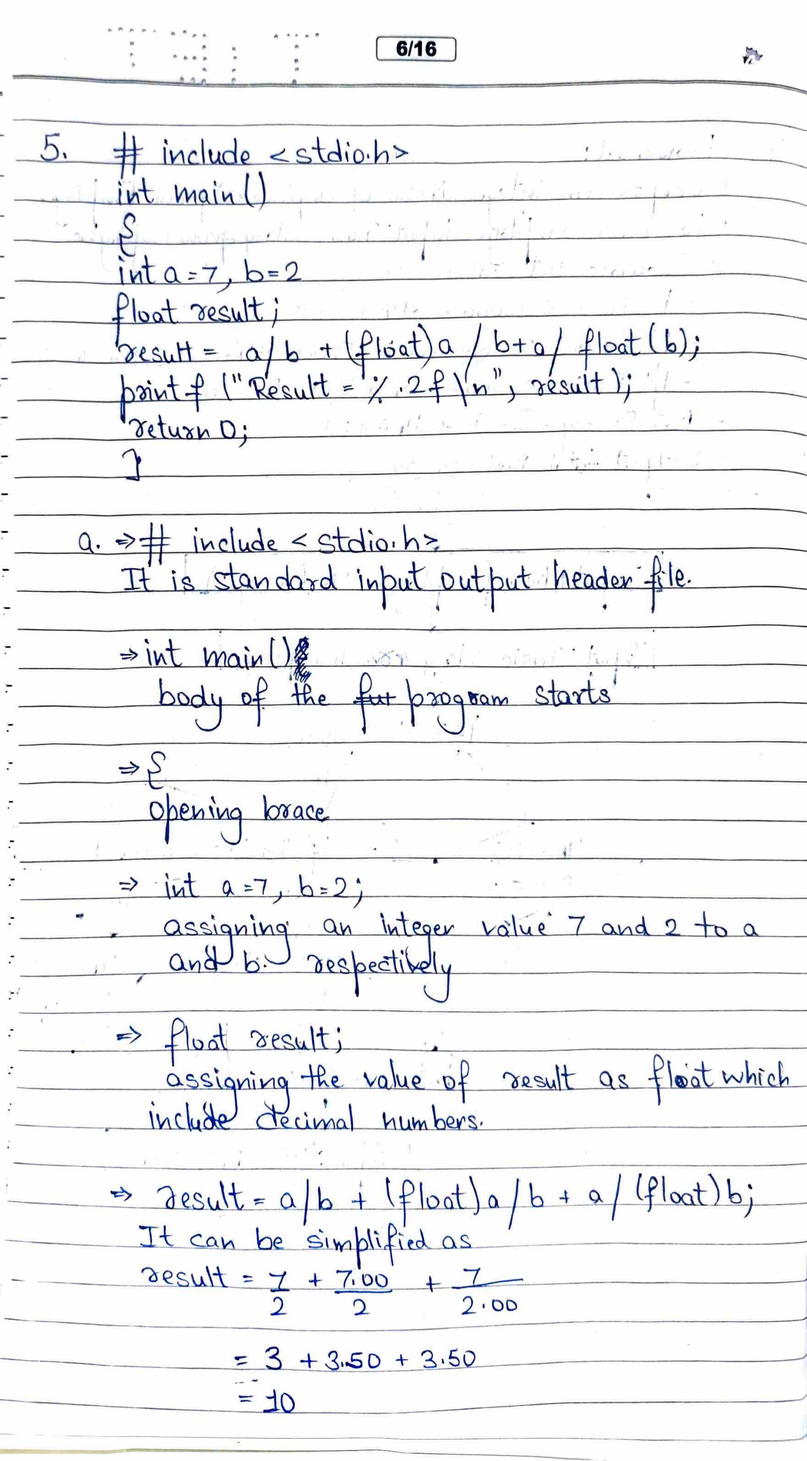cuttings: (350, 668, 397, 738), (292, 634, 314, 682)
